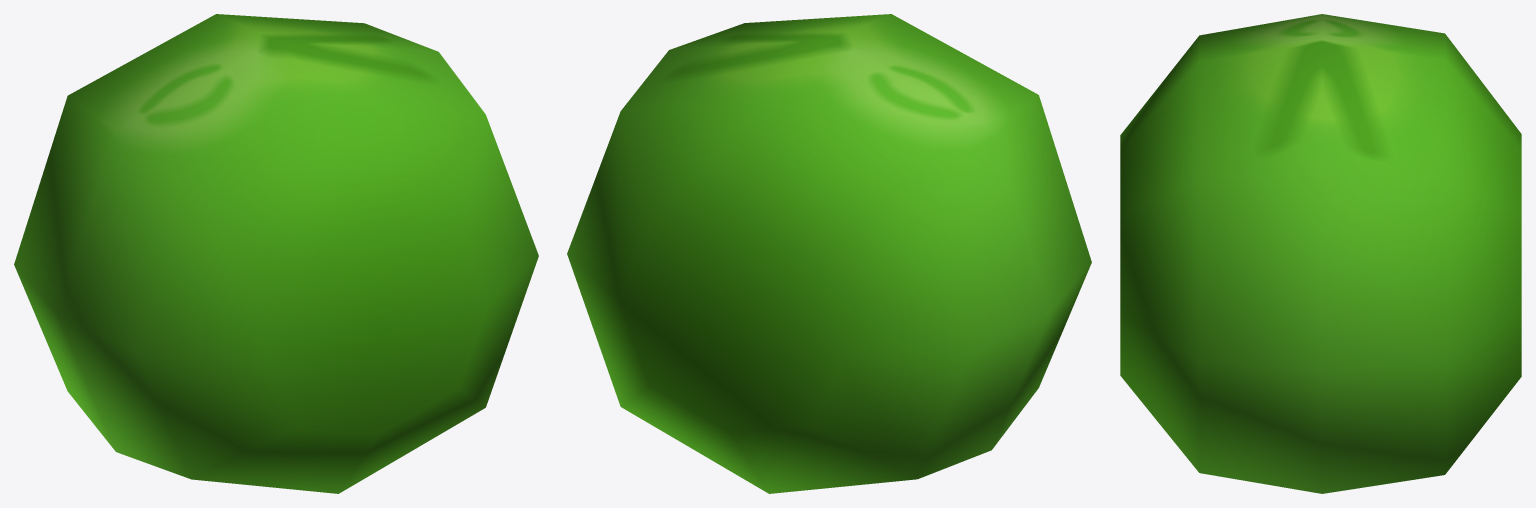
The model's file is Pea.FBX.
The picture shows the model from 3 angles, left to right: view 1: azimuth 30°, elevation 25°; view 2: azimuth 150°, elevation 25°; view 3: azimuth 270°, elevation 25°; orthographic projection.
Visible parts, largest first — view 1: Pea; view 2: Pea; view 3: Pea.
Boxes of the visible parts, <box> form: Pea: <box>14,14,538,493</box>; Pea: <box>567,14,1091,493</box>; Pea: <box>1120,14,1521,493</box>.
Size of the model in its own units: 0.9451 by 0.8759 by 0.7463.
Materials: 1 (1 with a texture image).
